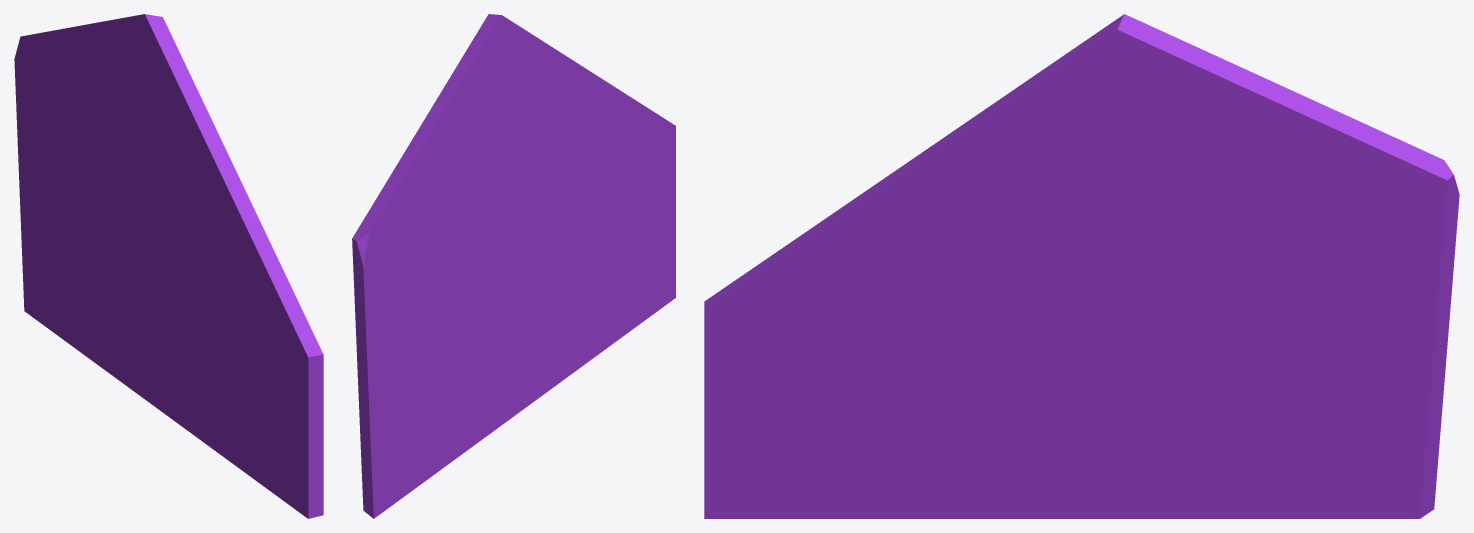
The model's file is Window_10_4_chunks.fbx.
The picture shows the model from 3 angles, left to right: view 1: azimuth 30°, elevation 25°; view 2: azimuth 150°, elevation 25°; view 3: azimuth 270°, elevation 25°; orthographic projection. The views are drawn at different scales.
Visible parts, largest first — view 1: Window_10_4_5, Window_10_4_6, Window_10_4_9, Window_10_4_1, Window_10_4_8, Window_10_4_3, Window_10_4_0, Window_10_4_4, Window_10_4_10, Window_10_4_12, Window_10_4_2; view 2: Window_10_4_5, Window_10_4_3, Window_10_4_6, Window_10_4_1, Window_10_4_8, Window_10_4_4, Window_10_4_0, Window_10_4_9, Window_10_4_10, Window_10_4_12, Window_10_4_2; view 3: Window_10_4_0, Window_10_4_5, Window_10_4_3, Window_10_4_4, Window_10_4_6, Window_10_4_9, Window_10_4_10, Window_10_4_1, Window_10_4_7, Window_10_4_12, Window_10_4_11, Window_10_4_8.
Part boxes in pixels (x1,y1,x2,y2): Window_10_4_5: (227,249,323,518); Window_10_4_6: (154,324,299,512); Window_10_4_9: (126,14,262,228); Window_10_4_1: (46,162,137,342); Window_10_4_8: (132,210,233,341); Window_10_4_3: (14,46,67,326); Window_10_4_0: (67,236,177,422); Window_10_4_4: (31,24,127,175); Window_10_4_10: (127,139,284,273); Window_10_4_12: (87,17,151,173); Window_10_4_2: (18,34,77,170); Window_10_4_5: (589,95,675,303); Window_10_4_3: (352,231,419,518); Window_10_4_6: (511,235,666,399); Window_10_4_1: (397,214,493,501); Window_10_4_8: (489,127,596,330); Window_10_4_4: (357,116,483,276); Window_10_4_0: (420,270,536,484); Window_10_4_9: (464,14,610,137); Window_10_4_10: (483,84,626,234); Window_10_4_12: (423,47,508,211); Window_10_4_2: (363,214,430,301); Window_10_4_0: (977,285,1348,518); Window_10_4_5: (704,221,909,518); Window_10_4_3: (1314,167,1459,518); Window_10_4_4: (1172,82,1438,288); Window_10_4_6: (725,369,1049,518); Window_10_4_9: (860,14,1175,205); Window_10_4_10: (803,181,1174,293); Window_10_4_1: (1152,256,1371,518); Window_10_4_7: (898,260,1065,392); Window_10_4_12: (1134,35,1276,229); Window_10_4_11: (1101,144,1189,252); Window_10_4_8: (1017,279,1106,365).
Size of the model in its own units: 27.2 by 653 by 902.
